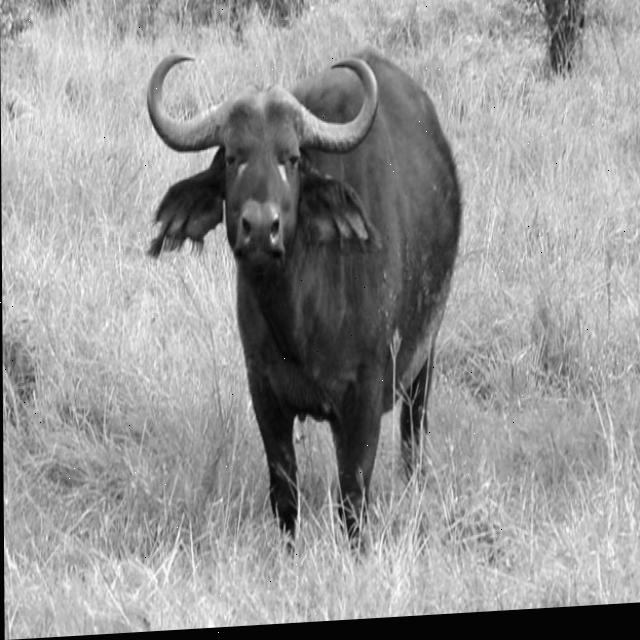Buffalo: (144, 30, 467, 585)
